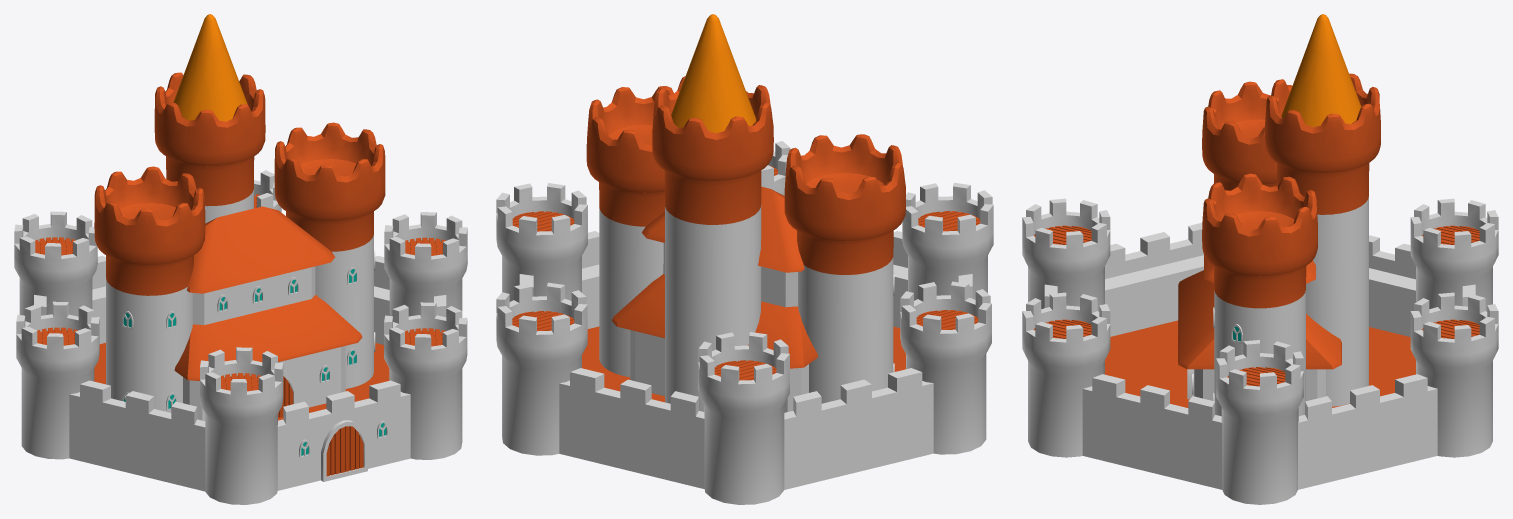
File: CS_Hexagon_Castle_Stage01.fbx
3 views of the same model, side by side, from view 1: azimuth 30°, elevation 25°; view 2: azimuth 150°, elevation 25°; view 3: azimuth 270°, elevation 25° (orthographic). The views are drawn at different scales.
Parts seen in each view (by area): view 1: Hexagon_Castle_Stage1; view 2: Hexagon_Castle_Stage1; view 3: Hexagon_Castle_Stage1.
Boxes of the visible parts, x1,y1,x2,y2 form: Hexagon_Castle_Stage1: (14,14,467,504); Hexagon_Castle_Stage1: (496,14,993,504); Hexagon_Castle_Stage1: (1022,14,1498,504).
Bounding box in the file's own units: 1129 × 890 × 1010.
